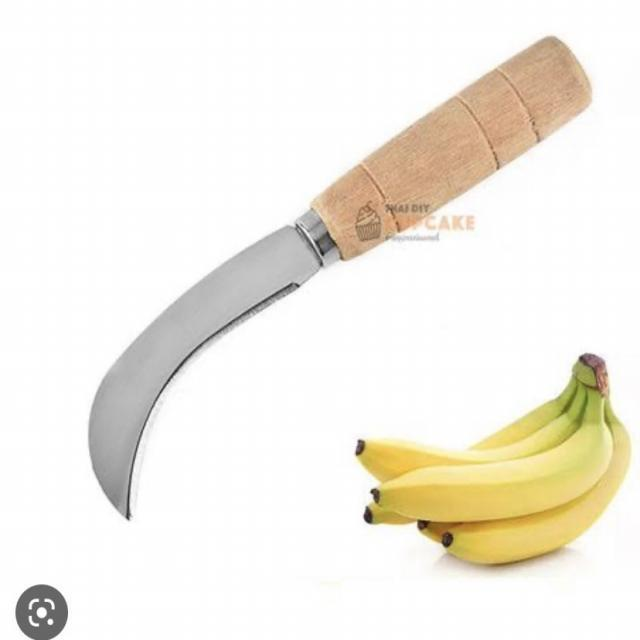Knife: (70, 23, 628, 545)
